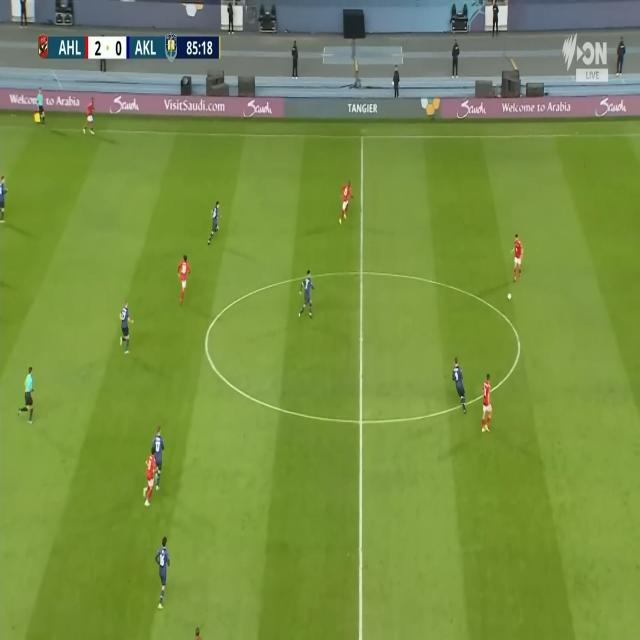Ball: (506, 290, 514, 302)
Player: (153, 535, 170, 612), (116, 299, 138, 357), (207, 201, 225, 250), (298, 268, 316, 317), (452, 355, 466, 414), (144, 446, 156, 511), (176, 256, 190, 310), (152, 426, 163, 490), (481, 372, 492, 436), (339, 180, 353, 226), (512, 232, 524, 282), (83, 95, 95, 137), (0, 172, 9, 225)
Ref: (17, 365, 37, 428), (34, 86, 48, 125)
